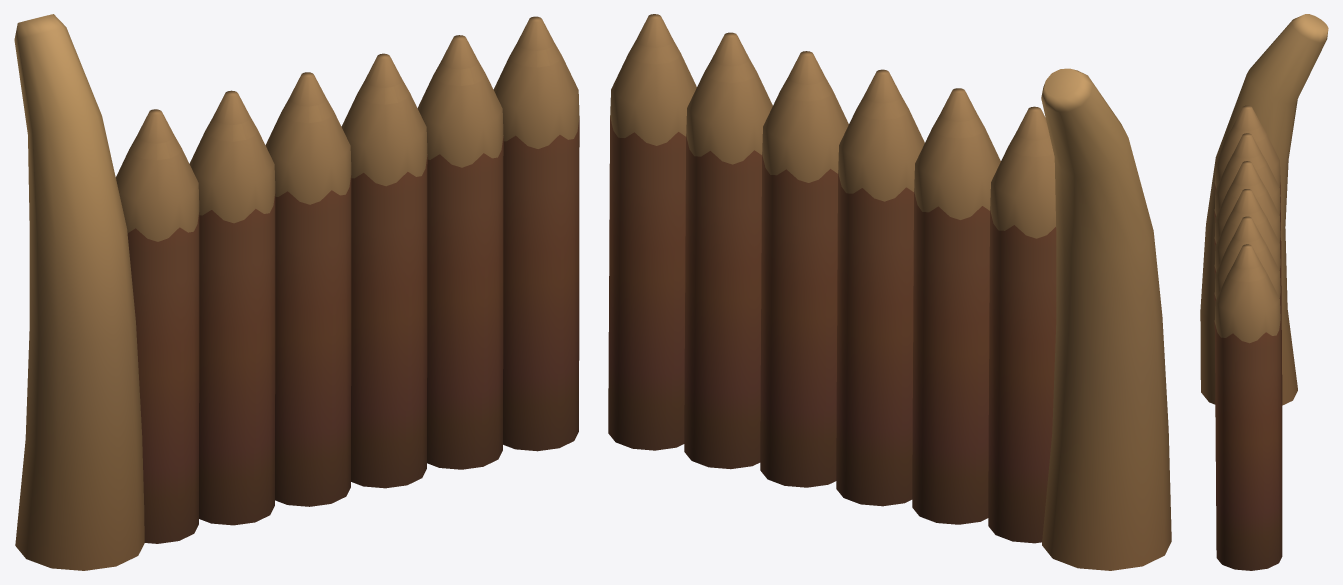
The model's file is Fence_4.fbx.
3 renders of one model, left to right at view 1: azimuth 30°, elevation 25°; view 2: azimuth 150°, elevation 25°; view 3: azimuth 270°, elevation 25°, orthographic. The views are drawn at different scales.
Parts seen in each view (by area): view 1: Fence_4; view 2: Fence_4; view 3: Fence_4.
Boxes of the visible parts, x1,y1,x2,y2 form: Fence_4: (14,14,579,570); Fence_4: (608,14,1171,570); Fence_4: (1200,14,1328,570).
Bounding box in the file's own units: 210 × 184 × 56.76.
